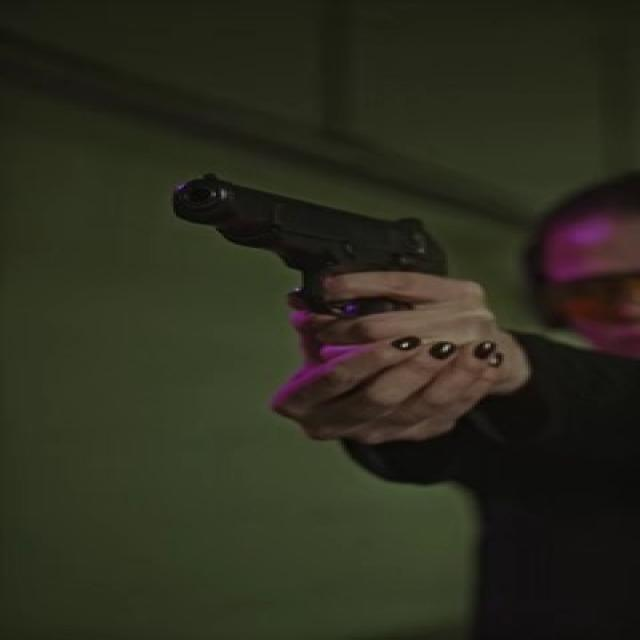Gun_Holder: (108, 173, 555, 472)
Person: (277, 157, 639, 640)
